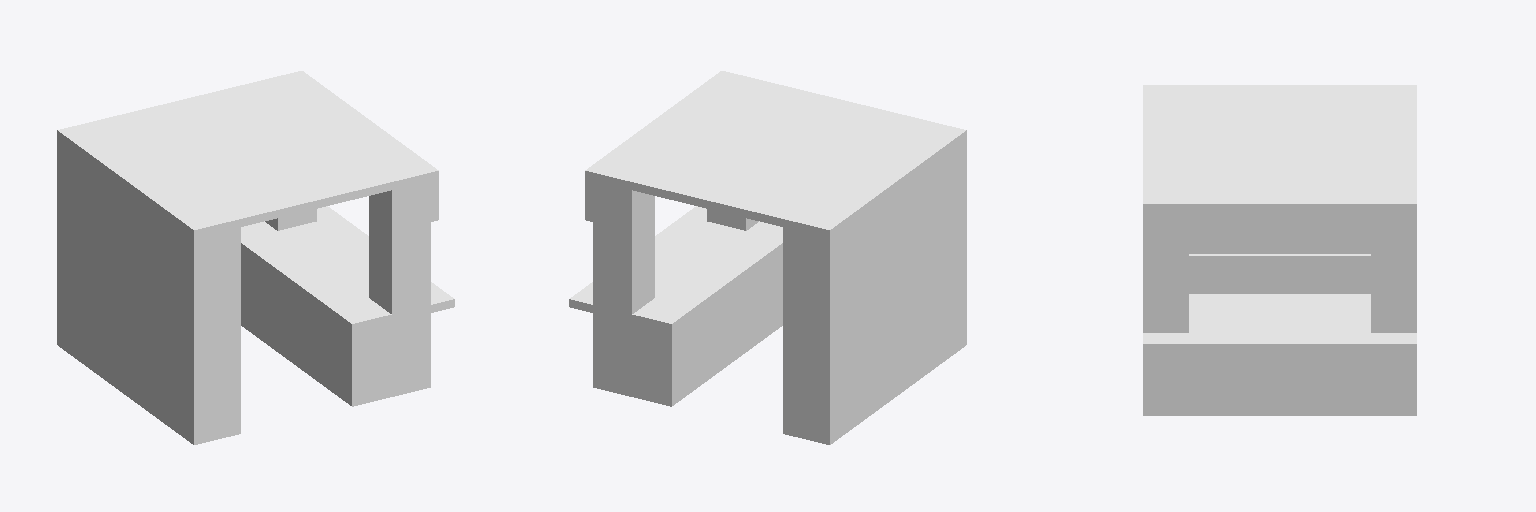
The model's file is MarketStall.obj.
3 renders of one model, left to right at view 1: azimuth 30°, elevation 25°; view 2: azimuth 150°, elevation 25°; view 3: azimuth 270°, elevation 25°, orthographic.
Bounding box in the file's own units: 33 × 26 × 30.